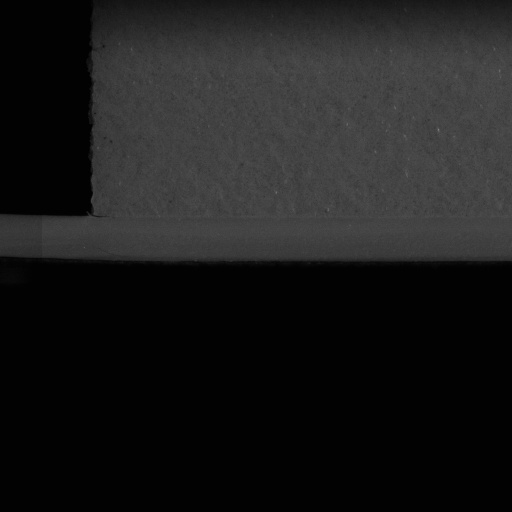changdai: (0, 215, 92, 264)
